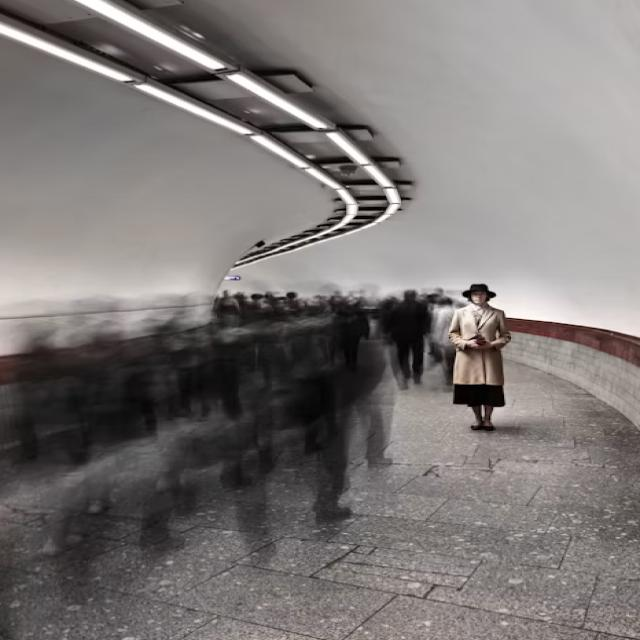Edited images: (424, 276, 541, 433)
